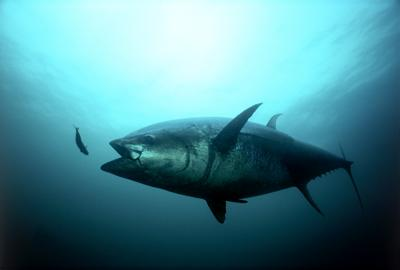Scombridae -Tunas-: (97, 98, 370, 223)
